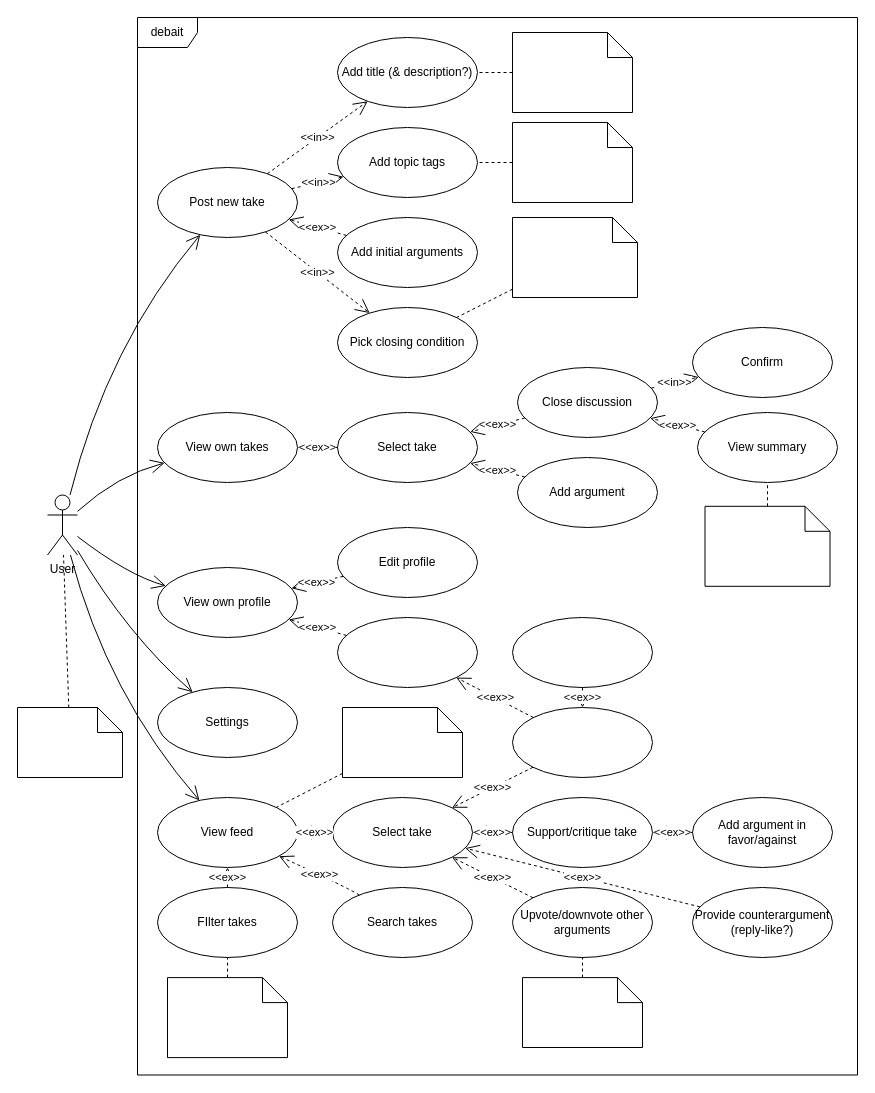
This 875x1093 diagram has some shape labels left out. Here are the shapes that lost their labels. From the top down, the centre of each, then its label:
At pixel 572 72: "(Omit description to promote concise takes?)".
At pixel 572 162: "Select from existing topic tags dropdown (or add own?)".
At pixel 575 257: "Manual/timed/threshold based discussion closing".
At pixel 767 545: "Discussion result (one side win/compromise), top agruments, etc".
At pixel 407 652: "Manage follows".
At pixel 582 652: "Follow/unfollow user/topic".
At pixel 69 742: "Auth required for certain functionality".
At pixel 402 742: "Recent takes by followed users/topics".
At pixel 582 742: "VIew (take/argument author) user profile/topic".
At pixel 227 1017: "Filter by topics, date, type (controvercy?, etc)".
At pixel 582 1012: "(Other marks? lacks evidence, etc)".
